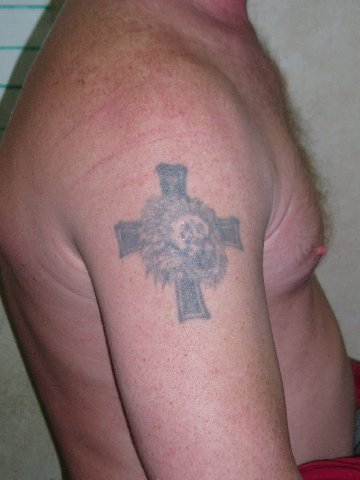tatu9_krest: (103, 162, 257, 318)
